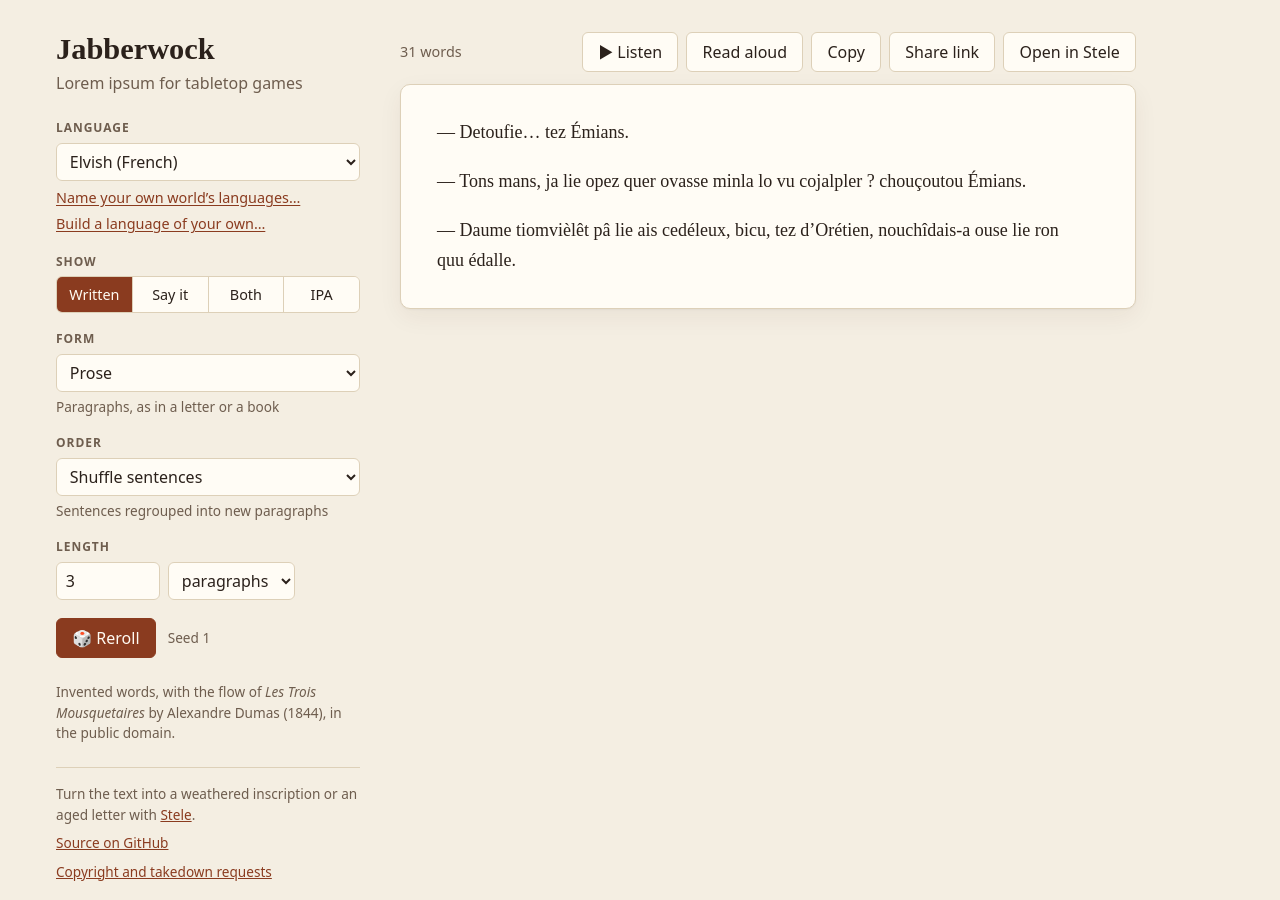
Scenario: Your own settings › names a language left blank, and removes one
The image size is (1280, 900).
Click the button "Name your own world’s languages…": (178, 198) [56,187,300,208]
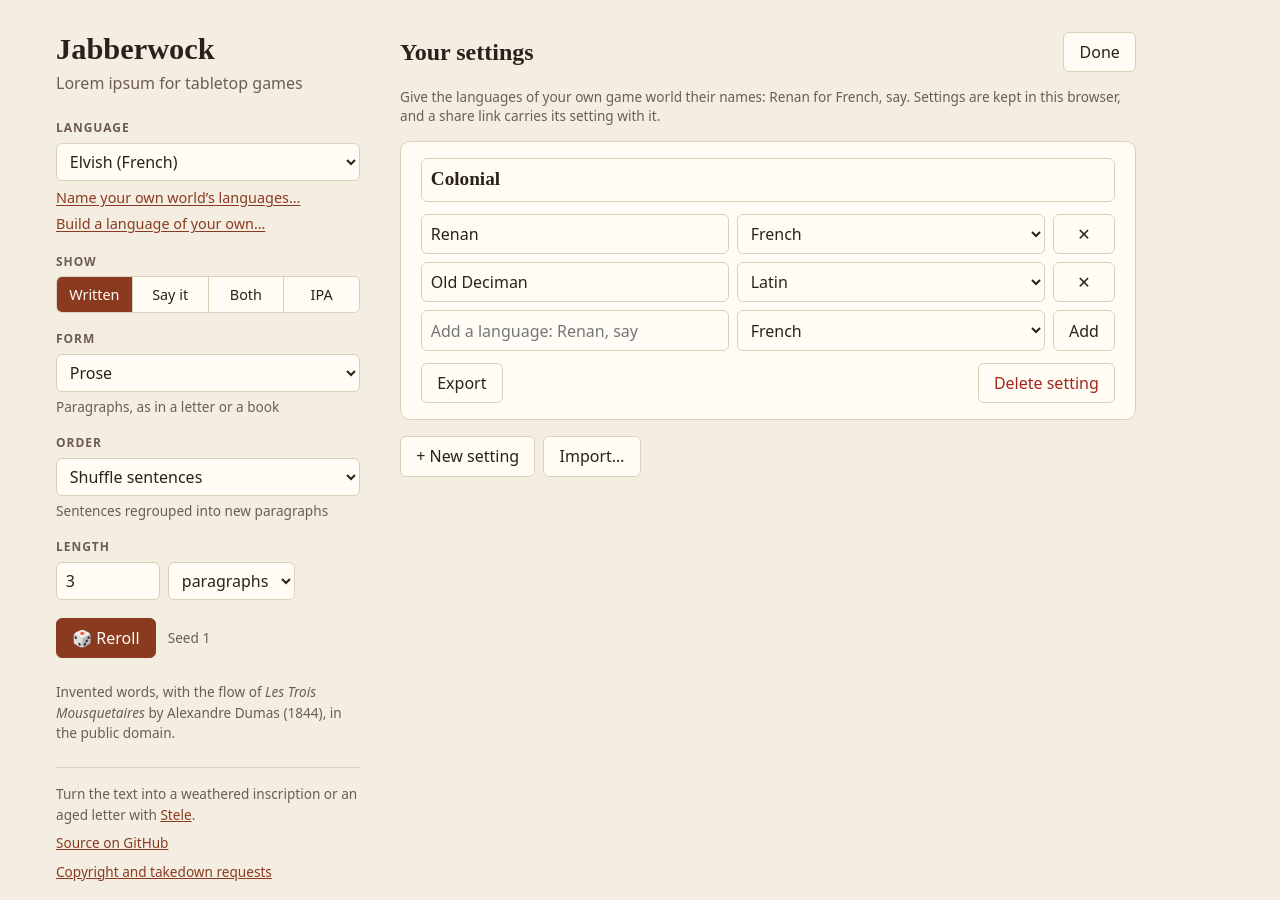
Clear the 1st field named "Language name": (575, 234) [421,214,729,254]
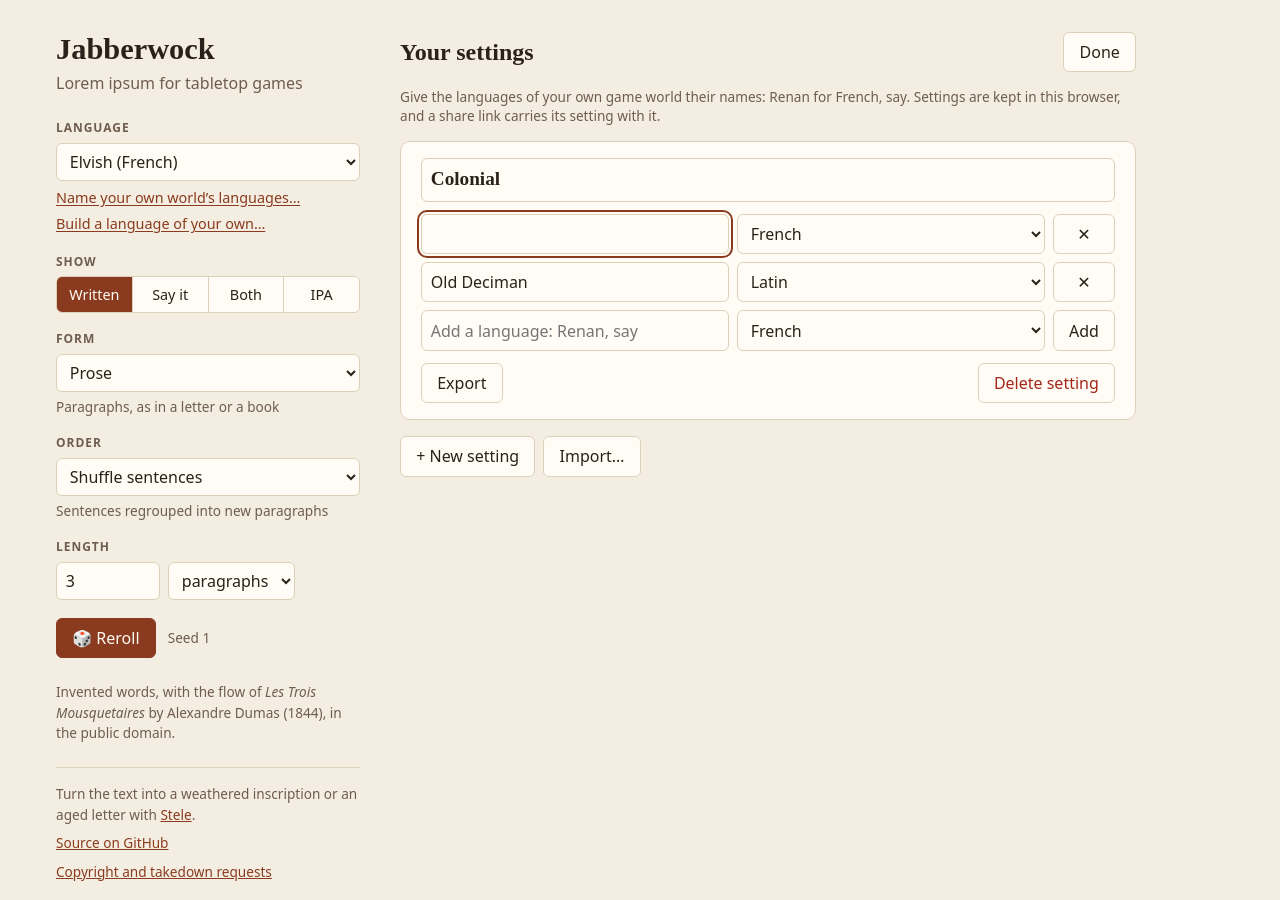
Press Tab
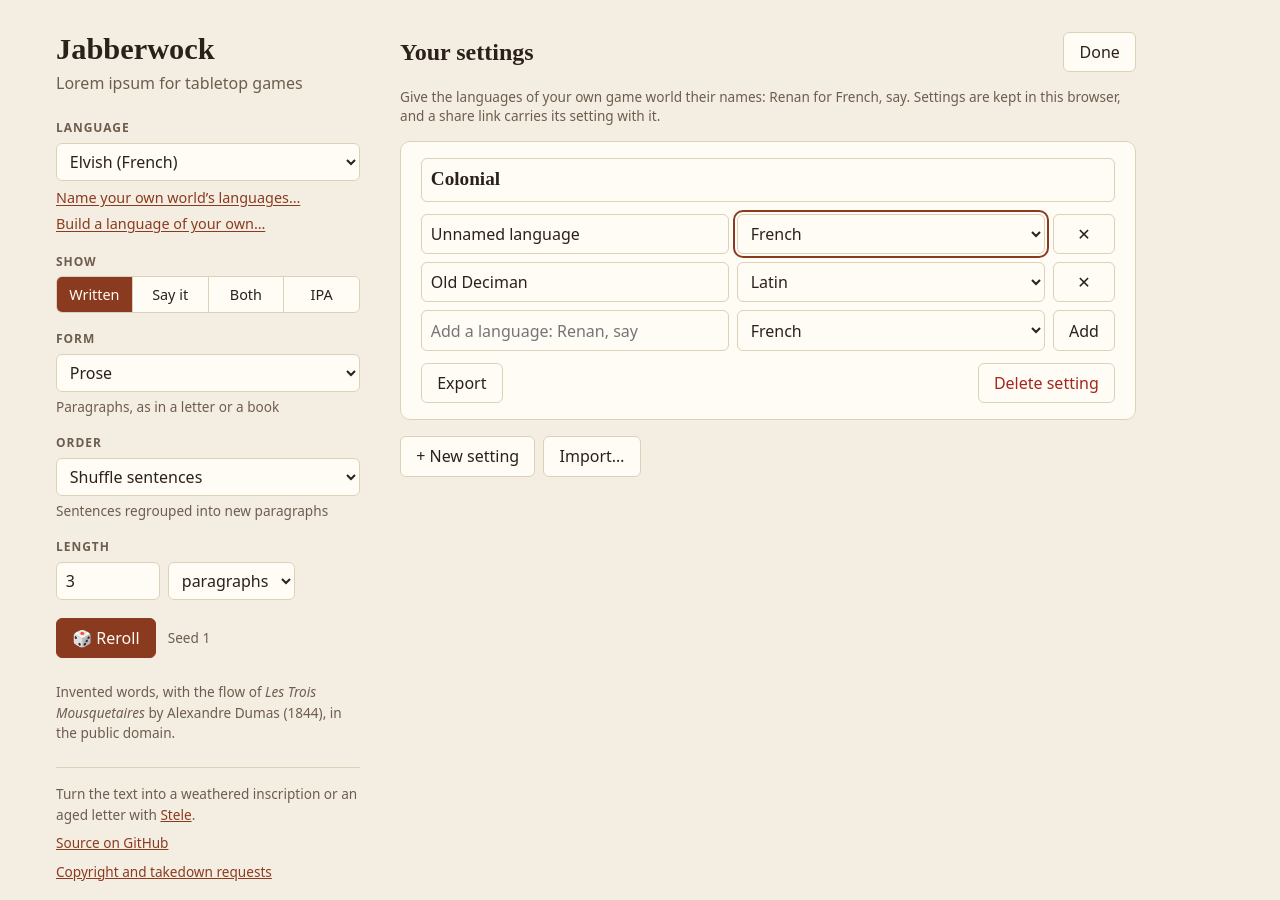
Expected: the 1st field named "Language name" holds "Unnamed language", [421,214,729,254]
Click the button named "Remove Old Deciman": (1084, 282) [1053,262,1115,302]
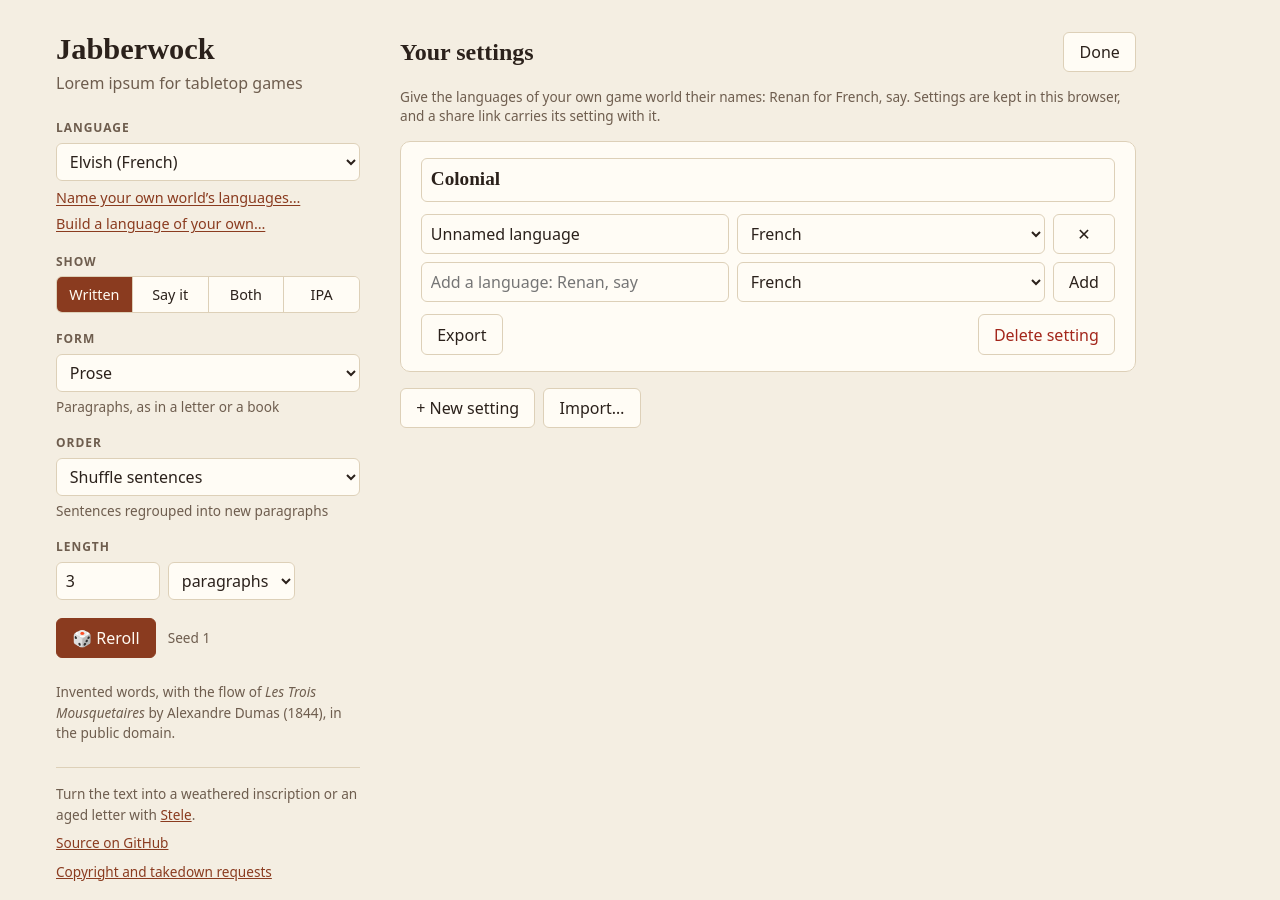
Expected: the number of fields named "Language name" is 1, [421,214,729,254]
